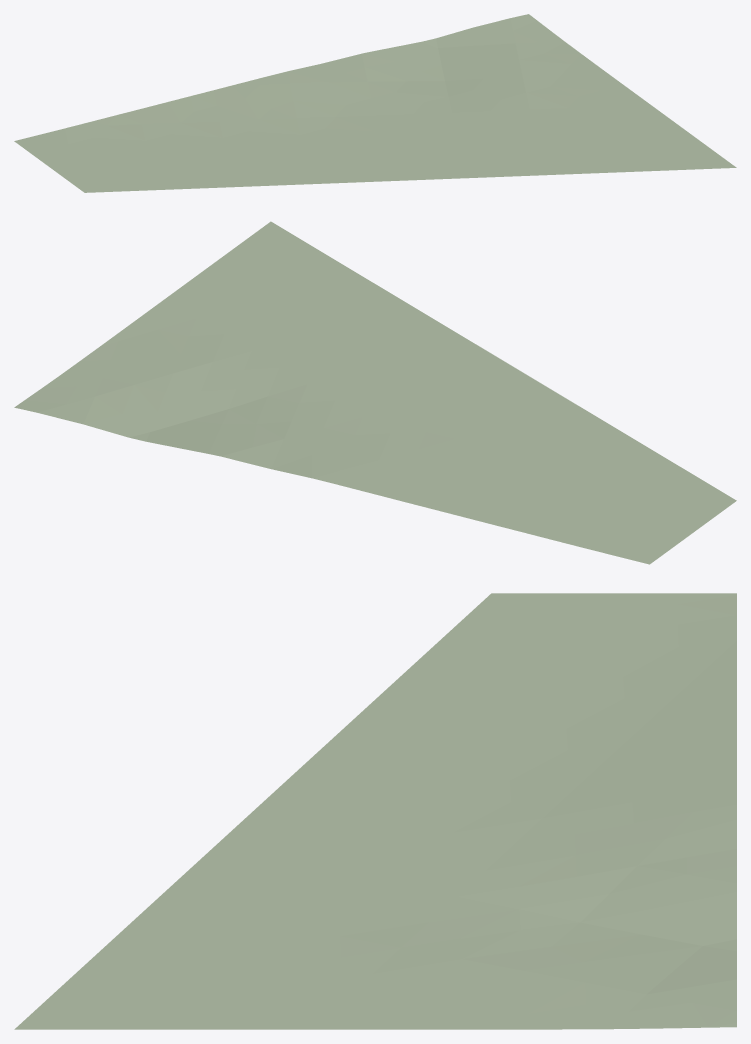
Rendered from SM_MPRR_Terrain_1_-5.fbx.
3 views of the same model, one above another, from view 1: azimuth 30°, elevation 25°; view 2: azimuth 150°, elevation 25°; view 3: azimuth 270°, elevation 25° (orthographic). The views are drawn at different scales.
Visible parts, largest first — view 1: SM_MPRR_Terrain_1_-5; view 2: SM_MPRR_Terrain_1_-5; view 3: SM_MPRR_Terrain_1_-5.
Boxes of the visible parts, x1,y1,x2,y2 form: SM_MPRR_Terrain_1_-5: (14,14,736,192); SM_MPRR_Terrain_1_-5: (14,221,736,564); SM_MPRR_Terrain_1_-5: (14,593,736,1029).
Bounding box in the file's own units: 15000 × 10500 × 119.
